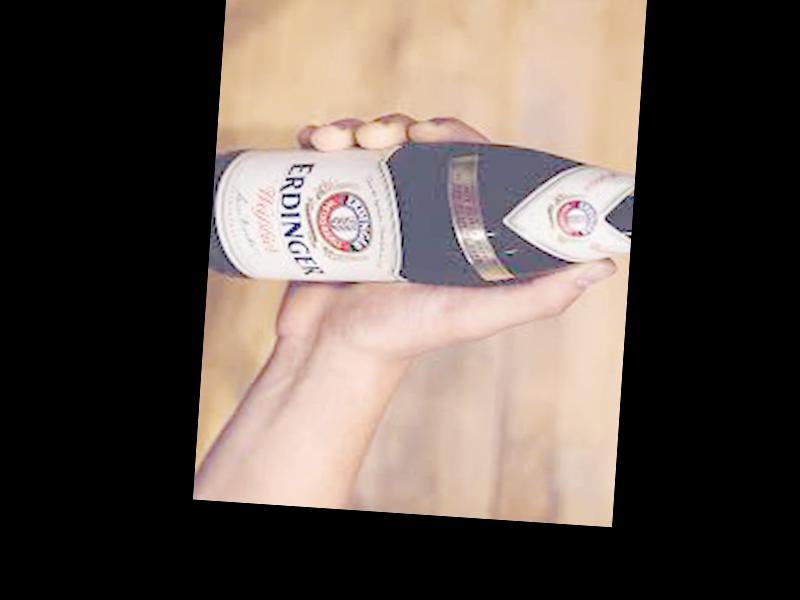Beer: (207, 125, 631, 305)
